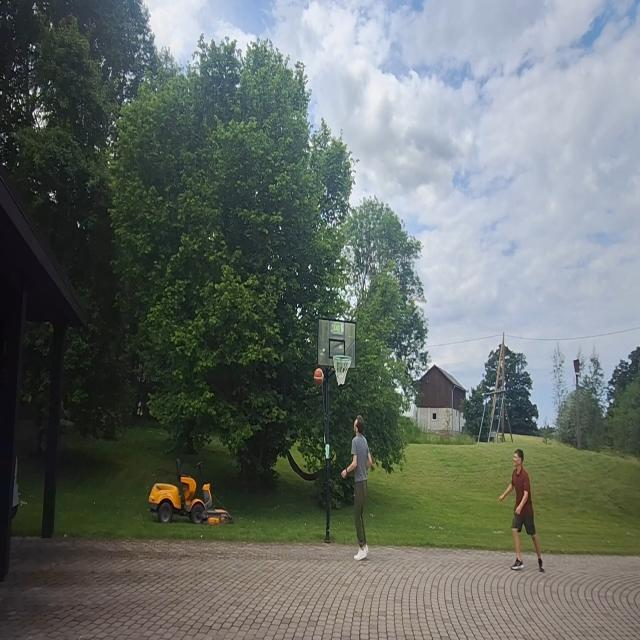ball: (314, 366, 325, 387)
basket: (339, 413, 373, 562), (332, 352, 352, 386)
player: (498, 447, 548, 573)
